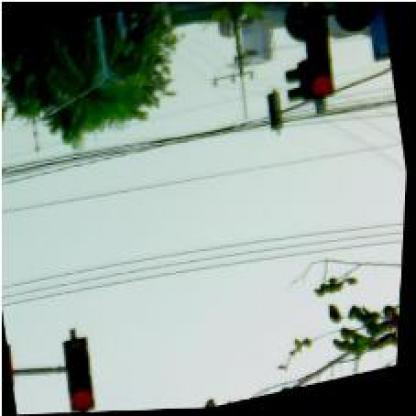red: (58, 332, 107, 412), (298, 19, 342, 102)
